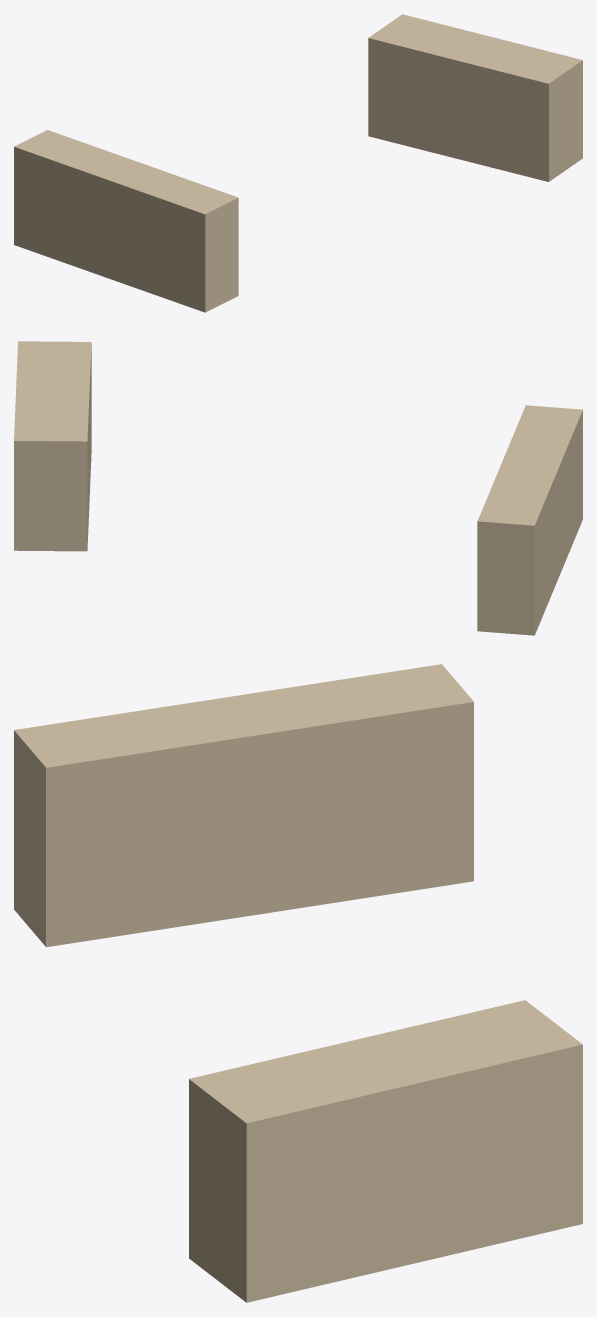
The model's file is -10_6-estimated-coarse.glb.
The picture shows the model from 3 angles, top to bottom: view 1: azimuth 30°, elevation 25°; view 2: azimuth 150°, elevation 25°; view 3: azimuth 270°, elevation 25°; orthographic projection. The views are drawn at different scales.
Bounding box in the file's own units: 65.87 × 12 × 34.48.
